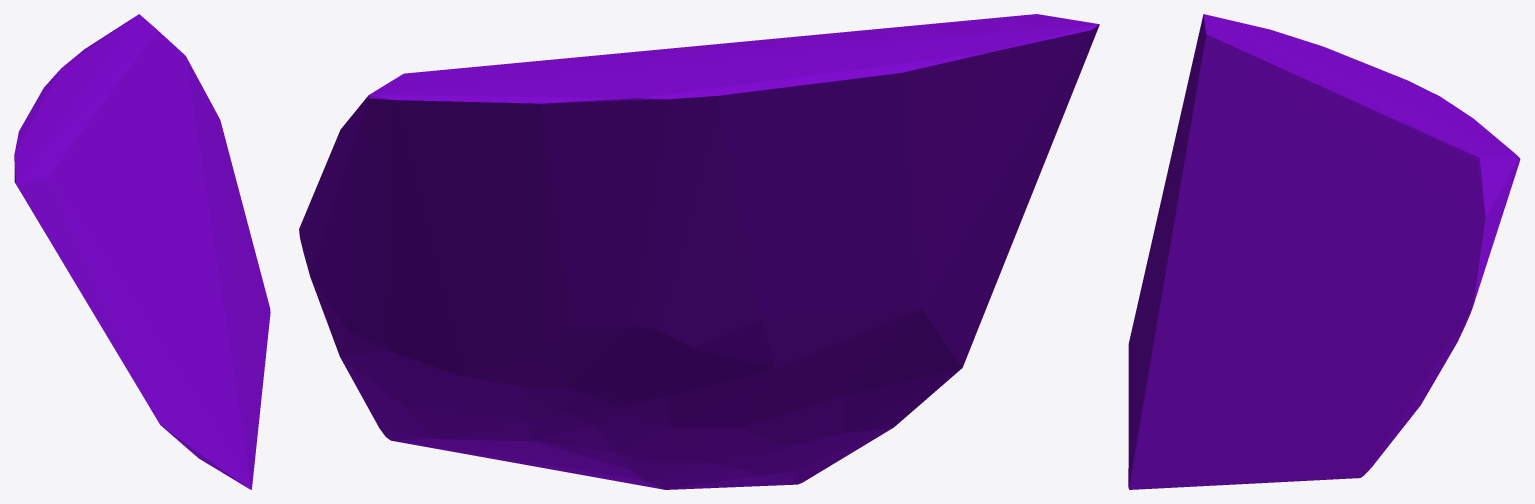
The model's file is convex_piece_006.obj.
3 renders of one model, left to right at view 1: azimuth 30°, elevation 25°; view 2: azimuth 150°, elevation 25°; view 3: azimuth 270°, elevation 25°, orthographic. The views are drawn at different scales.
Size of the model in its own units: 0.1104 by 0.1069 by 0.1036.
